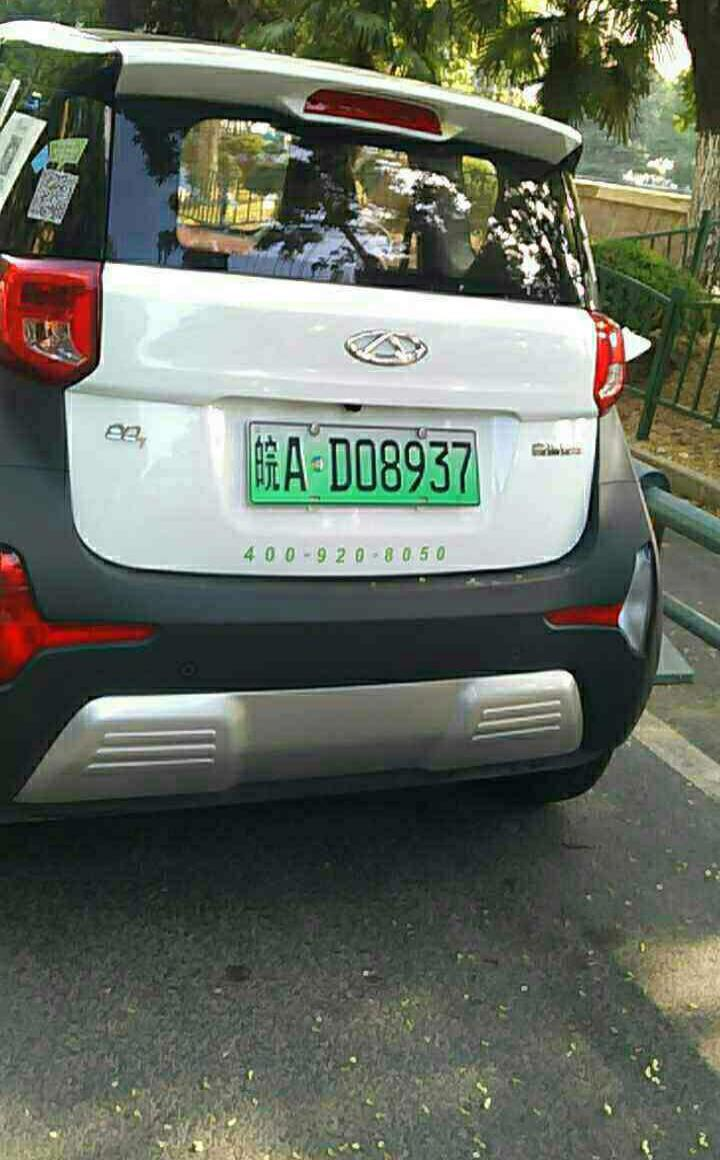car_id: (252, 422, 479, 501)
